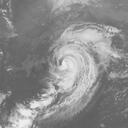cyclone: (43, 34, 99, 107)
